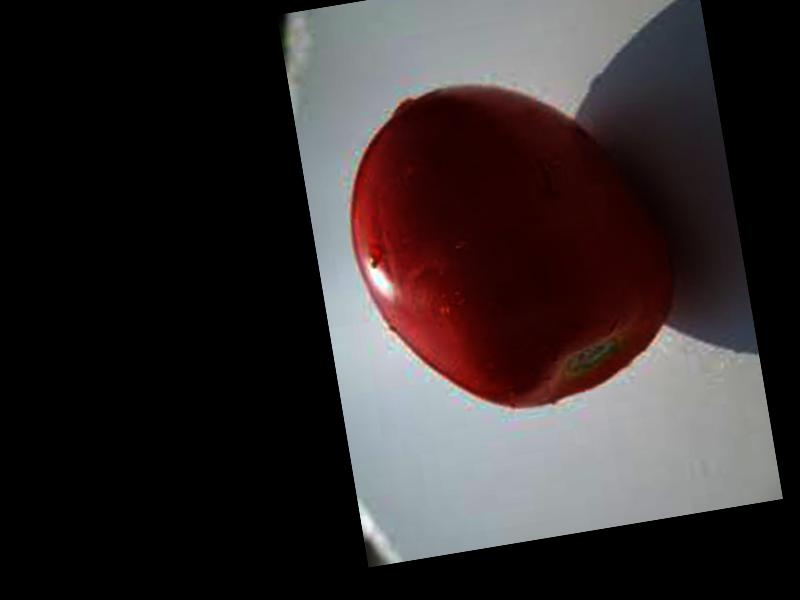Tomato: (330, 58, 689, 431)
